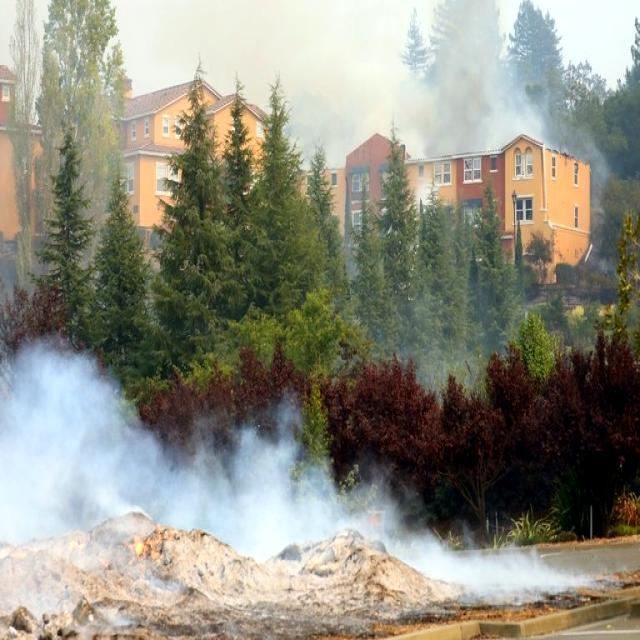Smoke: (203, 406, 523, 634), (0, 336, 215, 614)
